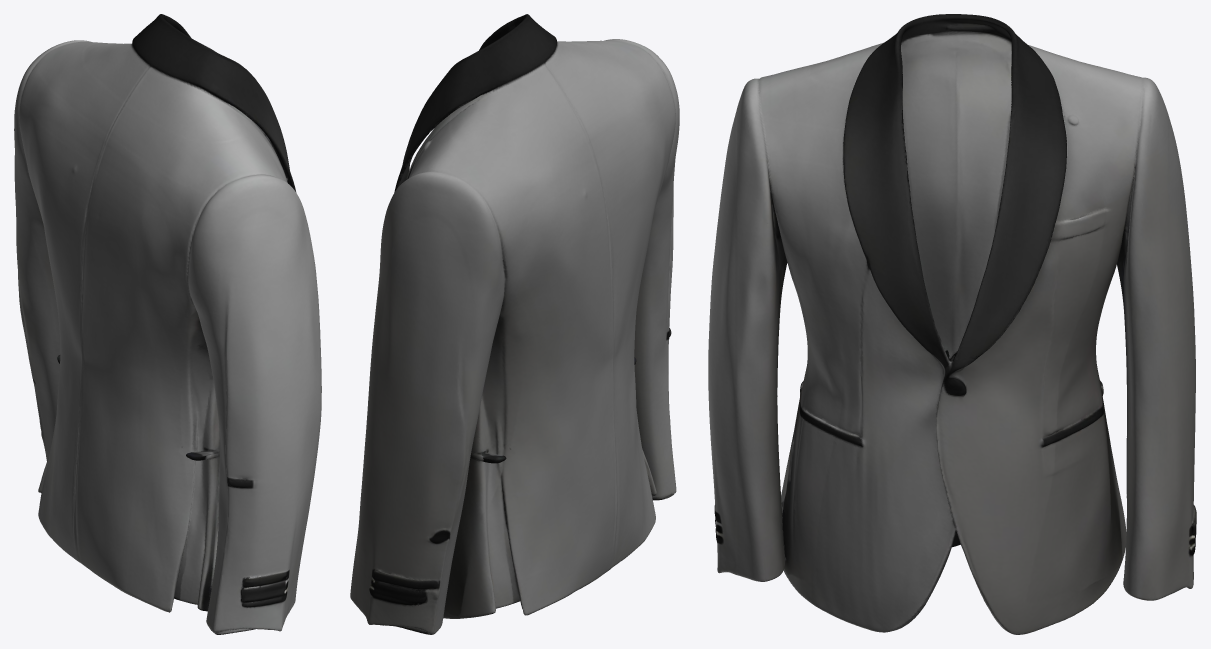
File: cd34604d-bf60-499c-bd24-363be12de294_VestXam.glb
The picture shows the model from 3 angles, left to right: view 1: azimuth 30°, elevation 25°; view 2: azimuth 150°, elevation 25°; view 3: azimuth 270°, elevation 25°; orthographic projection. The views are drawn at different scales.
Visible parts, largest first — view 1: tripo_node_fe0fd1fb-af31-456a-be20-074a3105780b; view 2: tripo_node_fe0fd1fb-af31-456a-be20-074a3105780b; view 3: tripo_node_fe0fd1fb-af31-456a-be20-074a3105780b.
Boxes of the visible parts, box(x1,y1,x2,y2) form: tripo_node_fe0fd1fb-af31-456a-be20-074a3105780b: box(14, 14, 321, 634); tripo_node_fe0fd1fb-af31-456a-be20-074a3105780b: box(350, 14, 679, 634); tripo_node_fe0fd1fb-af31-456a-be20-074a3105780b: box(708, 14, 1196, 634).
Bounding box in the file's own units: 0.3755 × 1 × 0.7578.
1 material, 1 textured.
